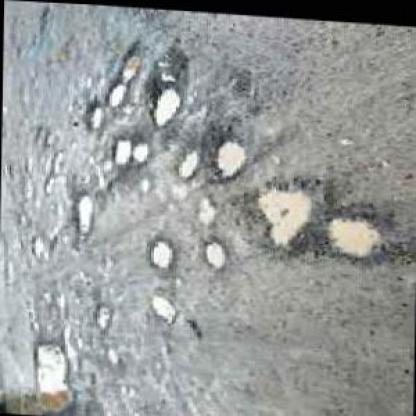pothole: (250, 179, 310, 248), (29, 340, 71, 409), (322, 208, 381, 257), (208, 130, 248, 176), (144, 83, 179, 125), (115, 38, 143, 80), (70, 190, 94, 236), (172, 144, 200, 176), (146, 291, 176, 319), (146, 236, 172, 266), (202, 236, 224, 266), (193, 193, 215, 220), (79, 100, 101, 127), (102, 80, 124, 106), (111, 133, 129, 164), (92, 301, 110, 327), (130, 136, 148, 159)
